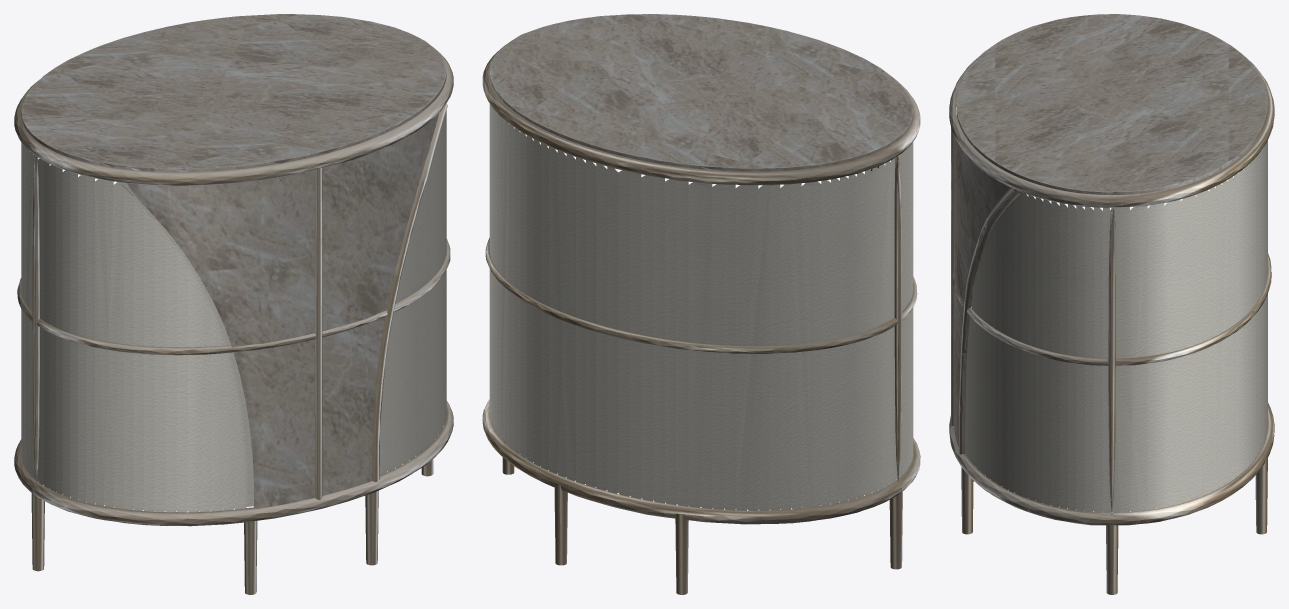
3 views of the same model, side by side, from view 1: azimuth 30°, elevation 25°; view 2: azimuth 150°, elevation 25°; view 3: azimuth 270°, elevation 25° (orthographic). The views are drawn at different scales.
Parts seen in each view (by area): view 1: Node; view 2: Node; view 3: Node.
Boxes of the visible parts, left/top/right/bottom form: Node: left=14, top=14, right=453, bottom=594; Node: left=482, top=14, right=920, bottom=594; Node: left=949, top=14, right=1274, bottom=594.
Size of the model in its own units: 0.5592 by 0.5689 by 0.4181.
1 material, 1 textured.
